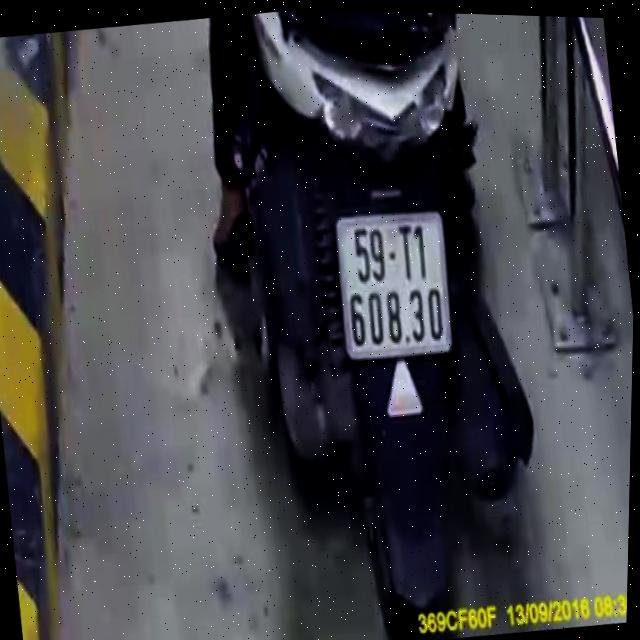motorcycle: (214, 7, 570, 640)
plate: (323, 200, 463, 370)
